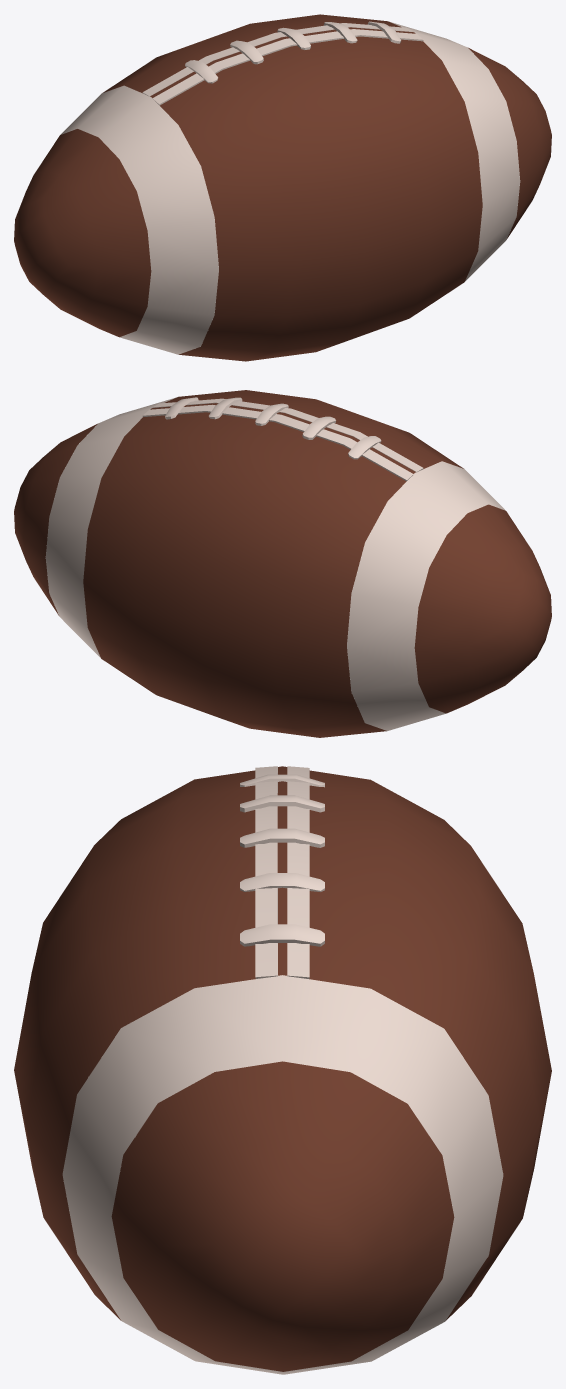
3 views of the same model, one above another, from view 1: azimuth 30°, elevation 25°; view 2: azimuth 150°, elevation 25°; view 3: azimuth 270°, elevation 25° (orthographic). The views are drawn at different scales.
Visible parts, largest first — view 1: ball_rugby; view 2: ball_rugby; view 3: ball_rugby.
Part boxes in pixels (left/top/right/bottom): ball_rugby: left=14, top=14, right=551, bottom=361; ball_rugby: left=14, top=390, right=551, bottom=737; ball_rugby: left=14, top=766, right=551, bottom=1374.
Size of the model in its own units: 2.57 by 1.44 by 1.43.
